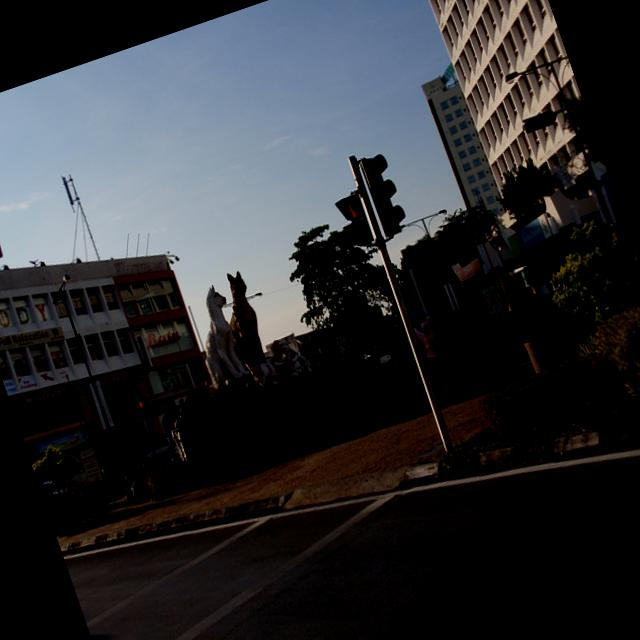Vehicle: (38, 474, 76, 517), (140, 432, 178, 468), (140, 436, 177, 466)
